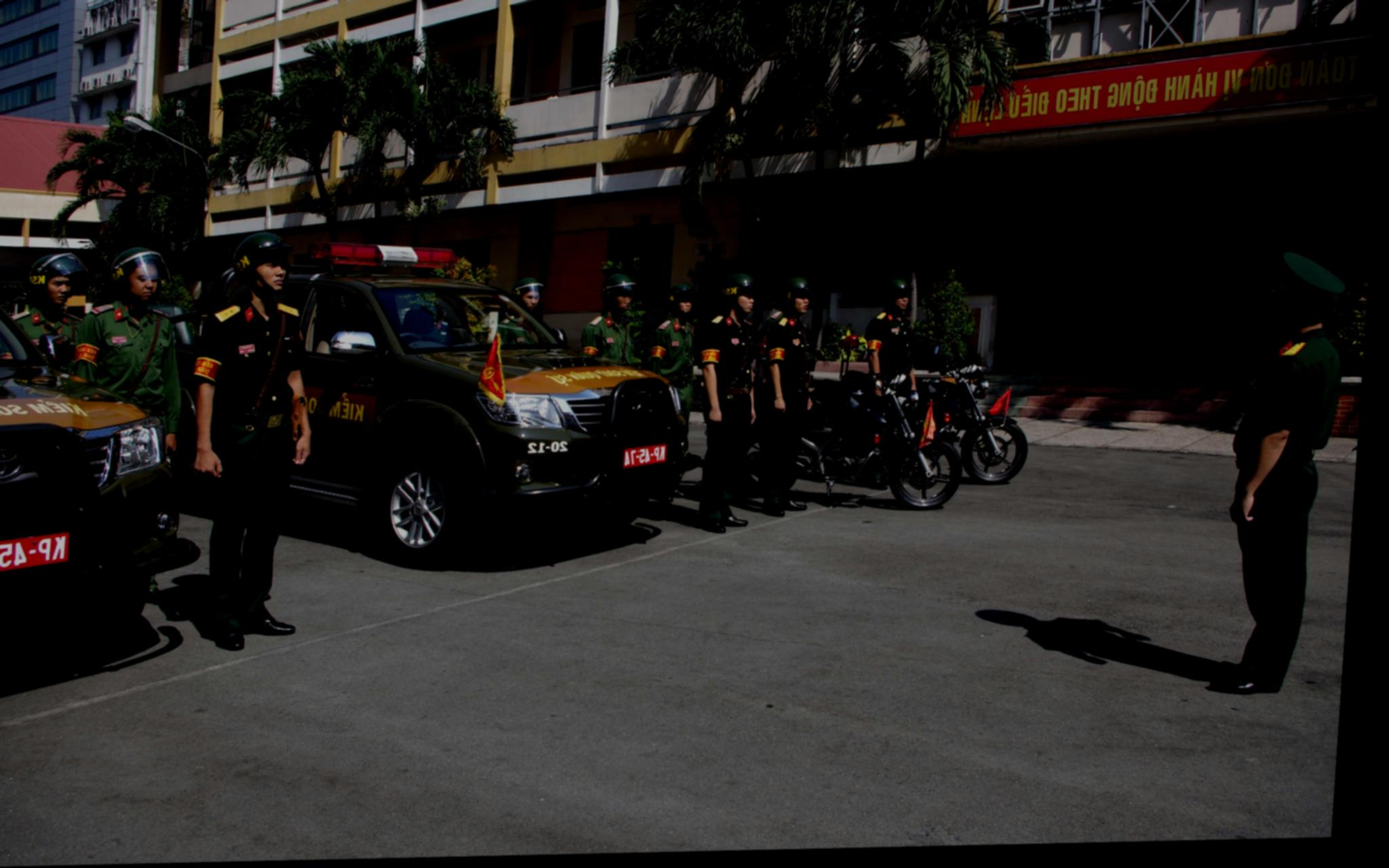License_Plate: (0, 527, 81, 584), (615, 445, 672, 474)
